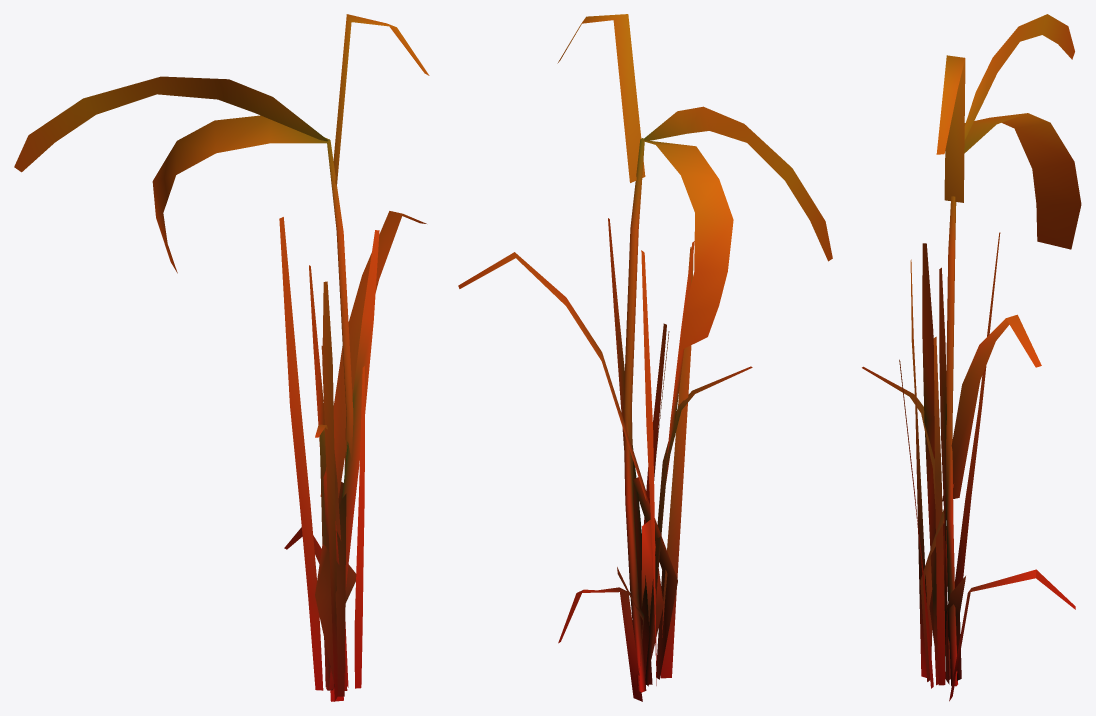
The model's file is SM_RicePlants_8.fbx.
3 views of the same model, side by side, from view 1: azimuth 30°, elevation 25°; view 2: azimuth 150°, elevation 25°; view 3: azimuth 270°, elevation 25° (orthographic). The views are drawn at different scales.
Visible parts, largest first — view 1: SM_RicePlants_8; view 2: SM_RicePlants_8; view 3: SM_RicePlants_8.
Part boxes in pixels (left/top/right/bottom): SM_RicePlants_8: left=14, top=14, right=429, bottom=701; SM_RicePlants_8: left=458, top=14, right=832, bottom=701; SM_RicePlants_8: left=862, top=14, right=1081, bottom=701.
Bounding box in the file's own units: 0.9011 × 1.48 × 0.4556.
